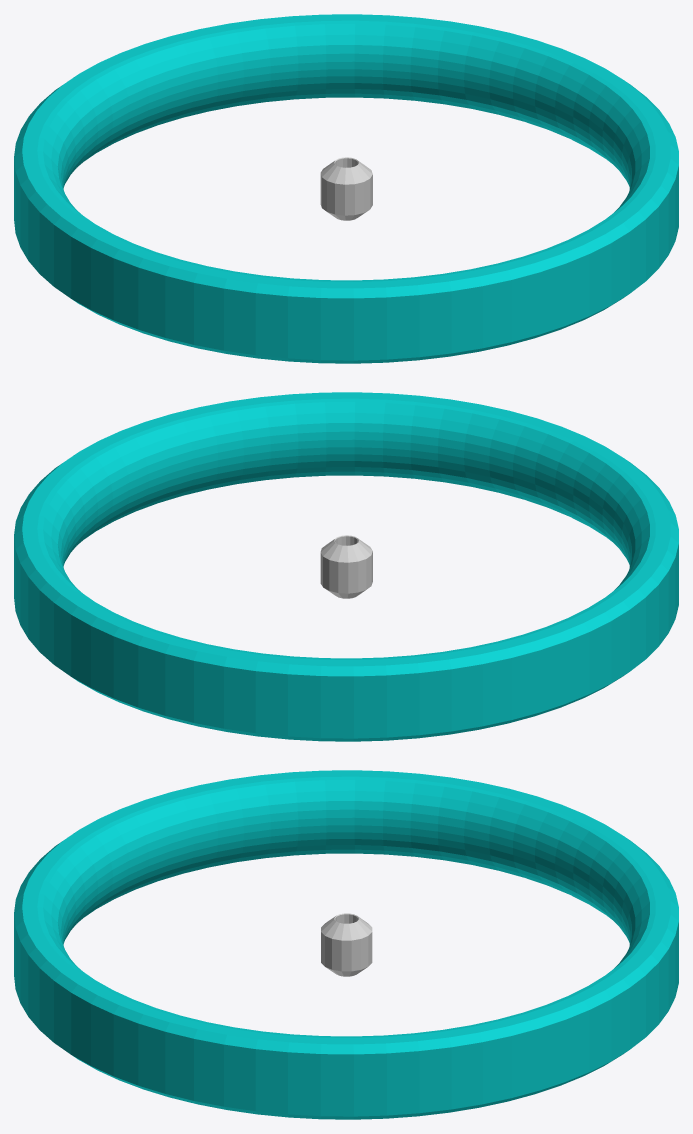
File: station_B_coll.dae
3 renders of one model, top to bottom at view 1: azimuth 30°, elevation 25°; view 2: azimuth 150°, elevation 25°; view 3: azimuth 270°, elevation 25°, orthographic.
Visible parts, largest first — view 1: RING_residental_009, coll; view 2: RING_residental_009, coll; view 3: RING_residental_009, coll.
Boxes of the visible parts, box(x1,y1,x2,y2) form: RING_residental_009: box(14, 14, 678, 363); coll: box(320, 157, 372, 220); RING_residental_009: box(14, 392, 678, 741); coll: box(320, 535, 372, 598); RING_residental_009: box(14, 770, 678, 1119); coll: box(321, 913, 372, 976).
Size of what is drawn, in the model's own units: 4053 by 4052 by 506.
